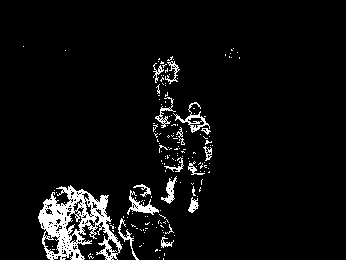person: (118, 182, 177, 260), (153, 95, 187, 205), (183, 100, 214, 215)
